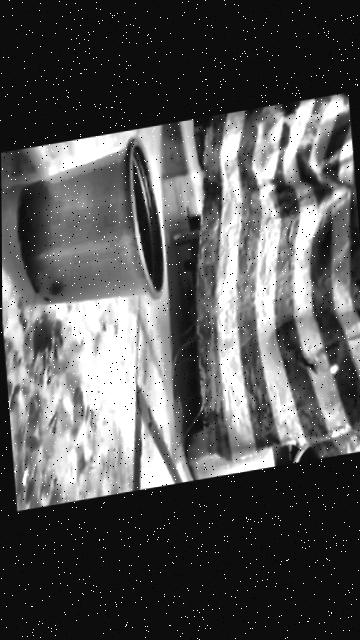pot: (14, 131, 167, 322)
